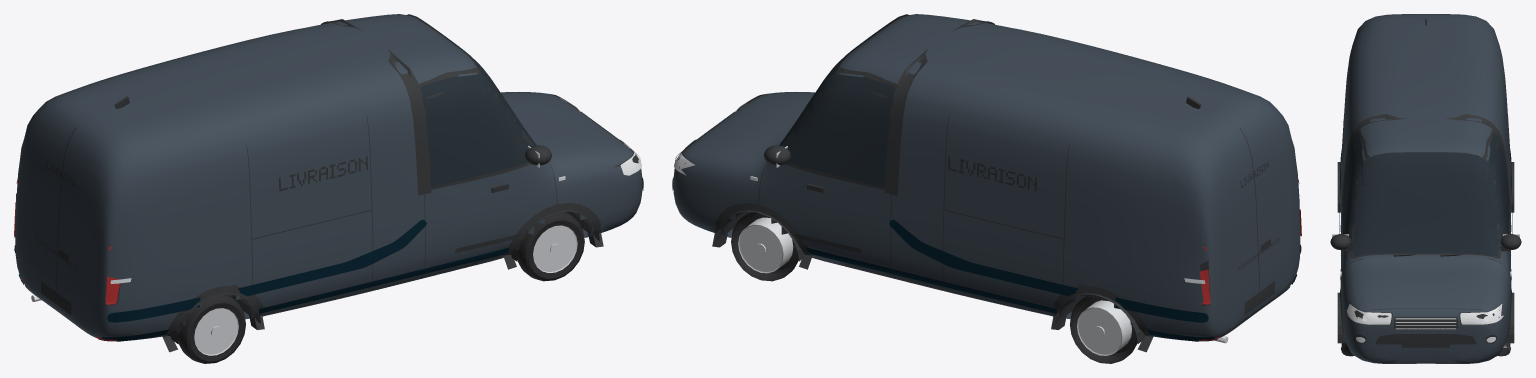
Rendered from livr_bleu.glb.
3 renders of one model, left to right at view 1: azimuth 30°, elevation 25°; view 2: azimuth 150°, elevation 25°; view 3: azimuth 270°, elevation 25°, orthographic. The views are drawn at different scales.
Visible parts, largest first — view 1: Body, Glass-1, WheelRR, WheelFR, LbWave-1, Bpillar-1, LbSky-1, ArchTrim-1, ArchTrim-1.001, WinFrame-1, ArchLiner.003; view 2: Body, Glass1, WheelFL, WheelRL, LbWave1, Bpillar1, LbSky1, ArchTrim1, ArchTrim1.001, WinFrame1, ArchLiner.002; view 3: Body, Windshield, Glass1, Glass-1, Intake, HeadReflector, Grille, WsFrame, Bpillar1, Bpillar-1, HeadBezel, Mirror1 (+7 smaller).
Boxes of the visible parts, box(x1,y1,x2,y2) form: Body: box(15, 14, 642, 340); Glass-1: box(420, 74, 536, 187); WheelRR: box(178, 294, 245, 363); WheelFR: box(517, 212, 584, 281); LbWave-1: box(107, 219, 426, 322); Bpillar-1: box(387, 48, 431, 195); LbSky-1: box(98, 248, 508, 341); ArchTrim-1: box(503, 203, 603, 269); ArchTrim-1.001: box(162, 285, 264, 352); WinFrame-1: box(418, 67, 532, 189); ArchLiner.003: box(170, 292, 260, 343); Body: box(673, 14, 1300, 340); Glass1: box(779, 74, 895, 187); WheelFL: box(731, 212, 798, 281); WheelRL: box(1070, 294, 1137, 363); LbWave1: box(889, 220, 1208, 322); Bpillar1: box(884, 49, 927, 195); LbSky1: box(807, 247, 1217, 341); ArchTrim1: box(712, 203, 812, 269); ArchTrim1.001: box(1051, 285, 1153, 352); WinFrame1: box(785, 67, 897, 189); ArchLiner.002: box(1054, 292, 1145, 343); Body: box(1341, 14, 1510, 363); Windshield: box(1353, 152, 1498, 256); Glass1: box(1477, 132, 1509, 250); Glass-1: box(1342, 132, 1371, 250); Intake: box(1375, 334, 1476, 344); HeadReflector: box(1347, 304, 1503, 324); Grille: box(1394, 317, 1457, 329); WsFrame: box(1350, 152, 1501, 258); Bpillar1: box(1445, 114, 1510, 208); Bpillar-1: box(1341, 114, 1406, 208); HeadBezel: box(1348, 300, 1500, 324); Mirror1: box(1501, 234, 1521, 249).
Bounding box in the file's own units: 5.62 × 2.34 × 2.15.
